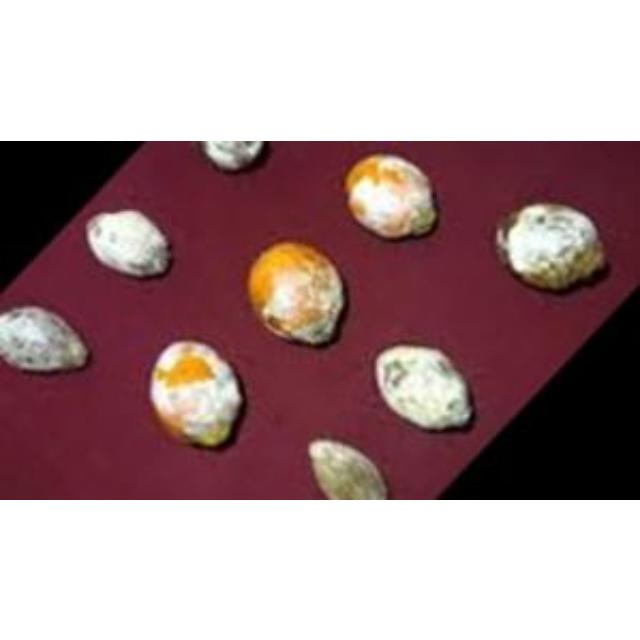damaged: (148, 337, 244, 447), (247, 240, 343, 344), (496, 201, 606, 291), (374, 342, 472, 430), (344, 152, 436, 238), (1, 304, 89, 372), (86, 209, 170, 279), (308, 437, 390, 499)
